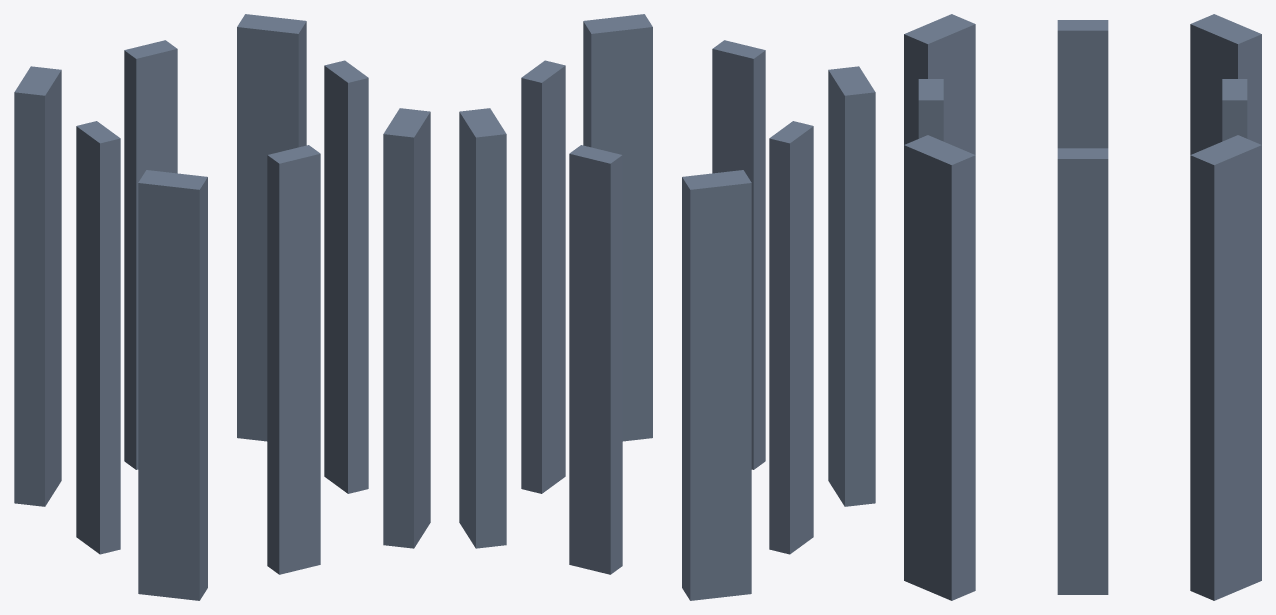
File: ShipyardCuboids.fbx
The picture shows the model from 3 angles, left to right: view 1: azimuth 30°, elevation 25°; view 2: azimuth 150°, elevation 25°; view 3: azimuth 270°, elevation 25°; orthographic projection. The views are drawn at different scales.
Parts seen in each view (by area): view 1: ShipyardSkeleton; view 2: ShipyardSkeleton; view 3: ShipyardSkeleton.
Boxes of the visible parts, left/top/right/bottom form: ShipyardSkeleton: left=14, top=14, right=430, bottom=600; ShipyardSkeleton: left=459, top=14, right=875, bottom=600; ShipyardSkeleton: left=904, top=14, right=1261, bottom=600.
Bounding box in the file's own units: 707 × 950 × 707.
